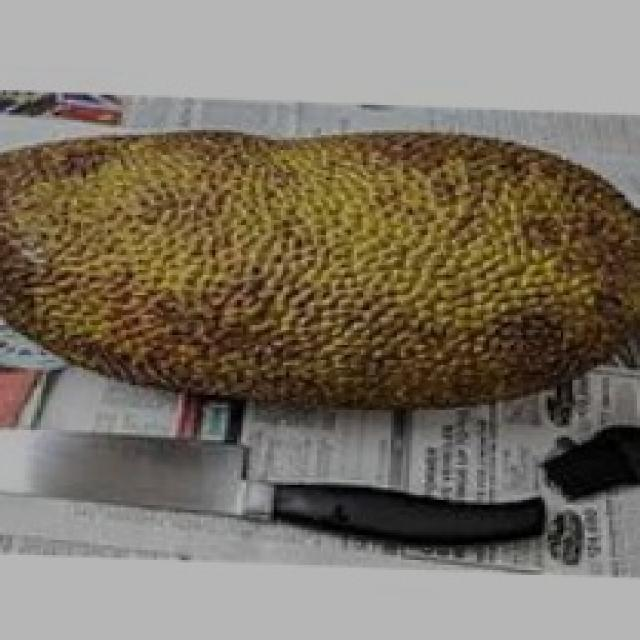Fruit: (237, 100, 640, 448), (0, 98, 403, 440)
